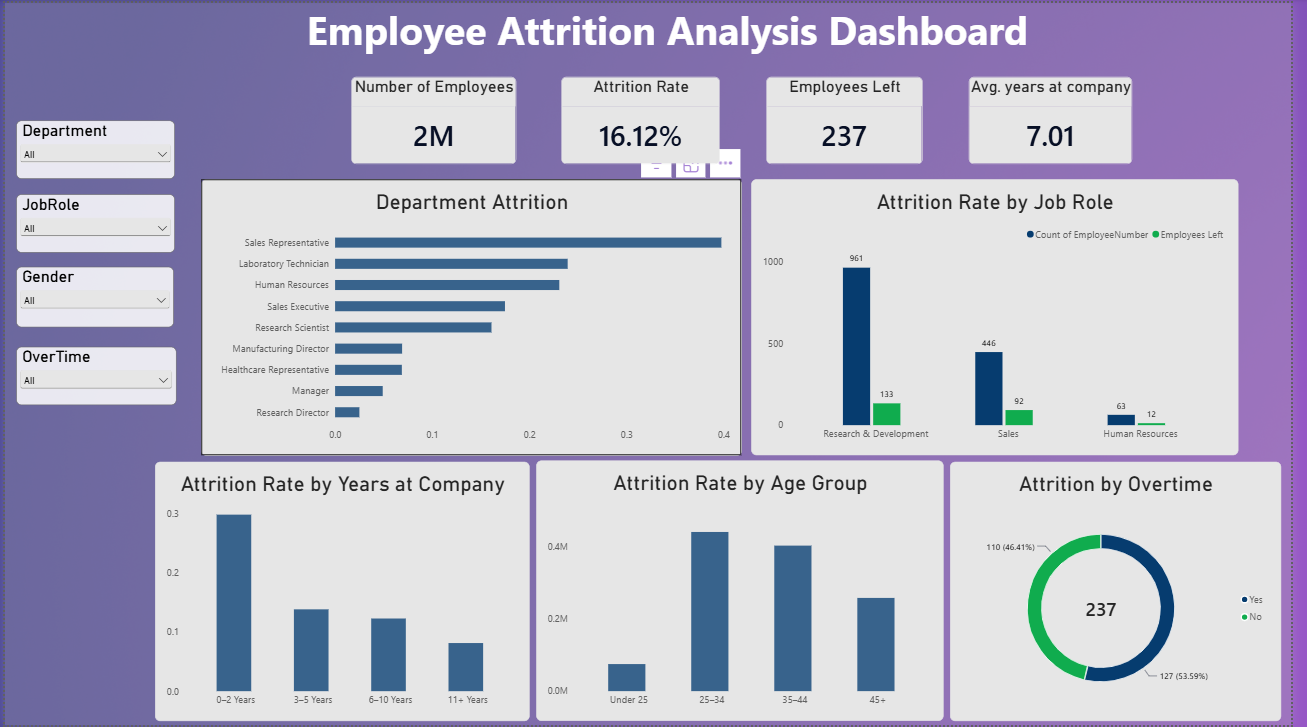

Layout of this report page (visuals, bound fields, positions):
{"tool":"powerbi","page":{"name":"Page 1","canvas":[1920,1080],"ordinal":0},"visuals":[{"type":"cardVisual","title":"Number of Employees","fields":{"Data":["Sum(Employee Data.EmployeeNumber)"]},"box":[517.6,110.4,246.1,130.3],"z":0,"group":"g1"},{"type":"clusteredColumnChart","title":"Attrition Rate by Job Role","fields":{"Category":["Employee Data.Department"],"Y":["CountNonNull(Employee Data.EmployeeNumber)","Employee Data.Employees Left"]},"box":[1113.5,263.2,727,412.3],"z":0},{"type":"cardVisual","title":"Employees Left","fields":{"Data":["Employee Data.Employees Left"]},"box":[1137.1,110.4,233.4,130.3],"z":1000,"group":"g1"},{"type":"clusteredColumnChart","title":"Attrition Rate by Age Group","fields":{"Category":["Employee Data.Age Group"],"Y":["Sum(Employee Data.DailyRate)"]},"box":[792.6,682.2,608,389.1],"z":1000},{"type":"cardVisual","title":"Attrition Rate","fields":{"Data":["Employee Data.Attrition Rate"]},"box":[831.9,110.4,237.1,130.3],"z":2000,"group":"g1"},{"type":"clusteredBarChart","title":"Department Attrition","fields":{"Category":["Employee Data.JobRole"],"Y":["Employee Data.Attrition Rate"]},"box":[292.6,263.2,807.1,412.6],"z":2000},{"type":"donutChart","title":"Attrition by Overtime","fields":{"Category":["Employee Data.OverTime"],"Y":["Employee Data.Employees Left"]},"box":[1409.7,684.1,494,387.3],"z":3000},{"type":"clusteredColumnChart","title":"Attrition Rate by Years at Company","fields":{"Category":["Employee Data.Years Group"],"Y":["Employee Data.Attrition Rate"]},"box":[224.4,684.1,559.2,387.3],"z":4000},{"type":"slicer","fields":{"Values":["Employee Data.Department"]},"box":[16.3,175.5,237.1,86.9],"z":5000},{"type":"slicer","fields":{"Values":["Employee Data.Gender"]},"box":[16.3,394.5,235.3,90.5],"z":6000},{"type":"slicer","fields":{"Values":["Employee Data.OverTime"]},"box":[16.3,513.9,238.9,86.9],"z":7000},{"type":"slicer","fields":{"Values":["Employee Data.JobRole"]},"box":[16.3,285.9,237.1,86.9],"z":8000},{"type":"group","id":"g1","title":"Group 1","box":[517.6,110.4,1165.4,130.3],"z":9000},{"type":"textbox","box":[57.1,0,1862.6,97.5],"z":10000},{"type":"cardVisual","title":"Avg. years at company","fields":{"Data":["Employee Data.Average Years at Company"]},"box":[1438.7,110.4,244.3,130.3],"z":13000,"group":"g1"}]}

Visuals, with their boxes in screenshot pixels (x1, y1, x2, y2), scaled from the page's 1920x1080 canvas onto the 1307x727 screenshot:
"Number of Employees" cardVisual: [352,74,520,162]
"Attrition Rate by Job Role" clusteredColumnChart: [758,177,1253,455]
"Employees Left" cardVisual: [774,74,933,162]
"Attrition Rate by Age Group" clusteredColumnChart: [540,459,953,721]
"Attrition Rate" cardVisual: [566,74,728,162]
"Department Attrition" clusteredBarChart: [199,177,749,455]
"Attrition by Overtime" donutChart: [960,461,1296,721]
"Attrition Rate by Years at Company" clusteredColumnChart: [153,461,533,721]
slicer - Employee Data.Department: [11,118,172,177]
slicer - Employee Data.Gender: [11,266,171,326]
slicer - Employee Data.OverTime: [11,346,174,404]
slicer - Employee Data.JobRole: [11,192,172,251]
"Group 1" group: [352,74,1146,162]
textbox: [39,0,1306,66]
"Avg. years at company" cardVisual: [979,74,1146,162]
